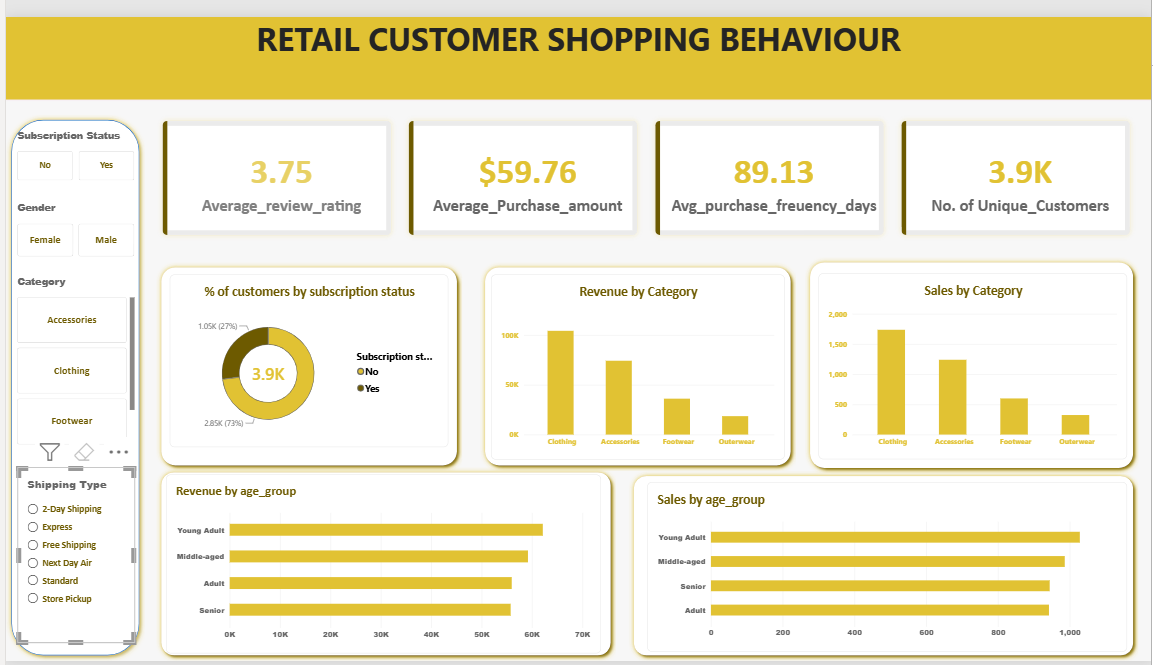

The page's visual inventory and layout, read from the dashboard file:
{"tool":"powerbi","page":{"name":"Customer_shopping behaviour dashboard","canvas":[1920,1080],"ordinal":0},"visuals":[{"type":"cardVisual","fields":{"Data":["customer_behaviour customer.Average_review_rating","customer_behaviour customer.Average_Purchase_amount","customer_behaviour customer.Average_purchase_freuency_days","customer_behaviour customer.No. of Customers"]},"box":[251.6,163.5,1647.9,213.8],"z":0},{"type":"textbox","box":[0,0,1920.4,138.4],"z":1000},{"type":"shape","box":[251.6,410.9,513.7,350.1],"z":2000},{"type":"donutChart","title":"% of customers by subscription status","fields":{"Category":["customer_behaviour customer.subscription_status"],"Y":["customer_behaviour customer.No. of Customers"]},"box":[274.6,431.9,467.5,289.3],"z":3000},{"type":"shape","box":[1339.7,402.5,559.8,362.7],"z":4000},{"type":"shape","box":[794.6,410.9,530.4,350.1],"z":5000},{"type":"clusteredColumnChart","title":"Revenue by Category","fields":{"Category":["customer_behaviour customer.category"],"Y":["Sum(customer_behaviour customer.purchase_amount)"]},"box":[813.5,431.9,492.7,310.3],"z":6000},{"type":"clusteredColumnChart","title":"Sales by Category","fields":{"Category":["customer_behaviour customer.category"],"Y":["CountNonNull(customer_behaviour customer.customer_id)"]},"box":[1362.7,429.8,517.8,312.4],"z":7000},{"type":"shape","box":[0,163.5,232.7,916.2],"z":8000},{"type":"advancedSlicerVisual","fields":{"Values":["customer_behaviour customer.subscription_status"]},"box":[18.9,186.6,197.1,88.1],"z":9000},{"type":"advancedSlicerVisual","fields":{"Values":["customer_behaviour customer.gender"]},"box":[18.9,308.2,197.1,94.3],"z":10000},{"type":"advancedSlicerVisual","fields":{"Values":["customer_behaviour customer.category"]},"box":[18.9,431.9,197.1,287.2],"z":11000},{"type":"listSlicer","title":"Shipping Type","fields":{"Values":["customer_behaviour customer.shipping_type"]},"box":[18.9,754.8,197.1,295.6],"z":12000},{"type":"shape","box":[748.5,1050.4,16.8,29.4],"z":14000},{"type":"shape","box":[251.6,754.8,771.5,325],"z":14001},{"type":"clusteredBarChart","title":"Revenue by age_group","fields":{"Category":["customer_behaviour customer.age_group"],"Y":["Sum(customer_behaviour customer.purchase_amount)"]},"box":[268.4,767.3,729.6,299.8],"z":14002},{"type":"shape","box":[1044.1,761,855.4,318.7],"z":14004},{"type":"clusteredBarChart","title":"Sales by age_group","fields":{"Category":["customer_behaviour customer.age_group"],"Y":["CountNonNull(customer_behaviour customer.customer_id)"]},"box":[1075.5,779.9,805.1,285.1],"z":14005}]}

Visuals, with their boxes in screenshot pixels (x1, y1, x2, y2), scaled from the page's 1920x1080 canvas onto the 1153x665 screenshot:
cardVisual - customer_behaviour customer.Average_review_rating x customer_behaviour customer.Average_Purchase_amount: 151:101:1141:232
textbox: 0:0:1152:85
shape: 151:253:460:469
"% of customers by subscription status" donutChart: 165:266:446:444
shape: 805:248:1141:471
shape: 477:253:796:469
"Revenue by Category" clusteredColumnChart: 489:266:784:457
"Sales by Category" clusteredColumnChart: 818:265:1129:457
shape: 0:101:140:664
advancedSlicerVisual - customer_behaviour customer.subscription_status: 11:115:130:169
advancedSlicerVisual - customer_behaviour customer.gender: 11:190:130:248
advancedSlicerVisual - customer_behaviour customer.category: 11:266:130:443
"Shipping Type" listSlicer: 11:465:130:647
shape: 449:647:460:664
shape: 151:465:614:664
"Revenue by age_group" clusteredBarChart: 161:472:599:657
shape: 627:469:1141:664
"Sales by age_group" clusteredBarChart: 646:480:1129:656
